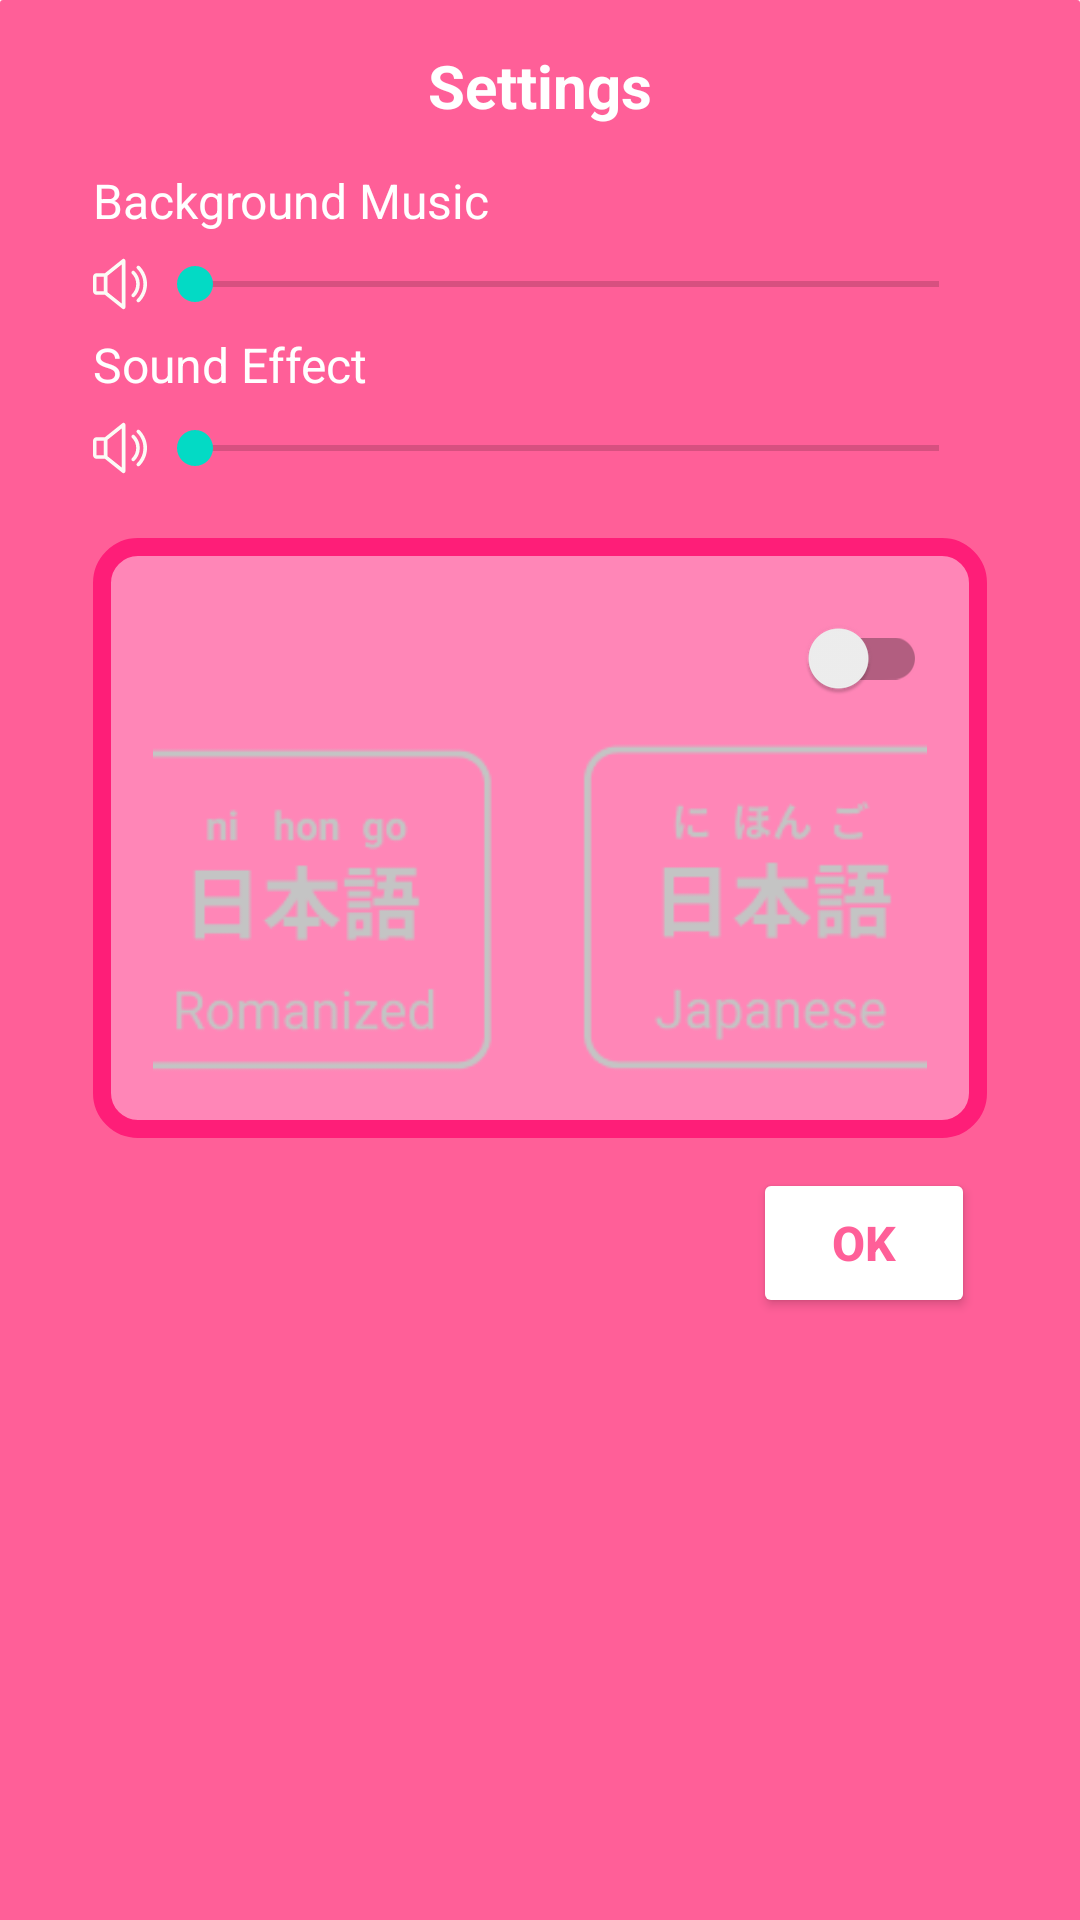

Icons on this 1080 × 1920 Android screen, each with the point to tap as (x=x, y=y):
volume: (x=120, y=284), (x=120, y=448)
